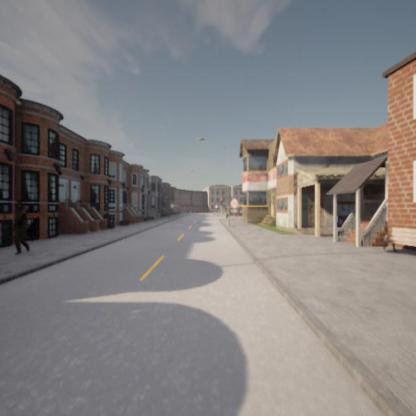person: (12, 196, 32, 256)
